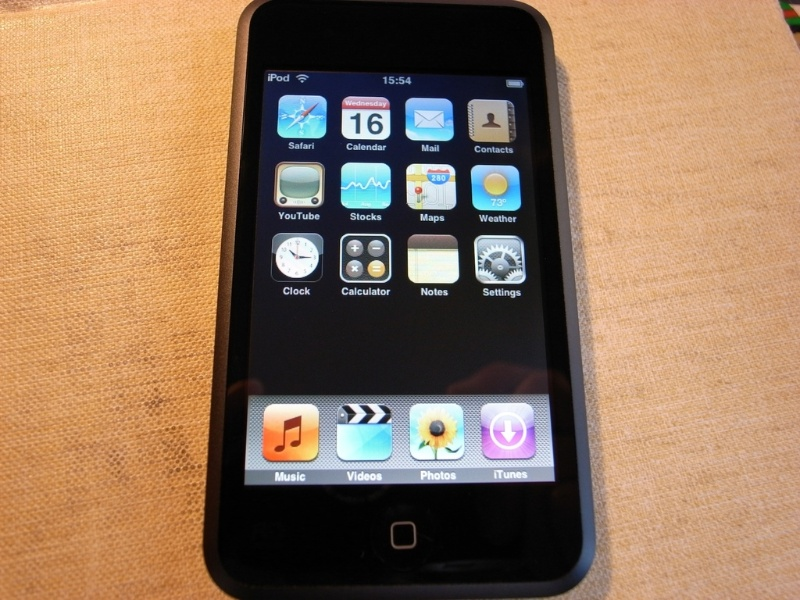cellphone: (229, 1, 599, 600)
